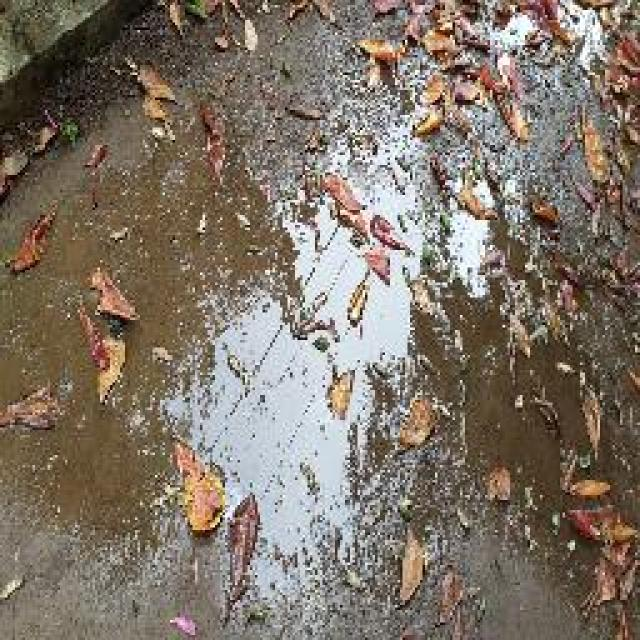puddle: (31, 153, 639, 593)
